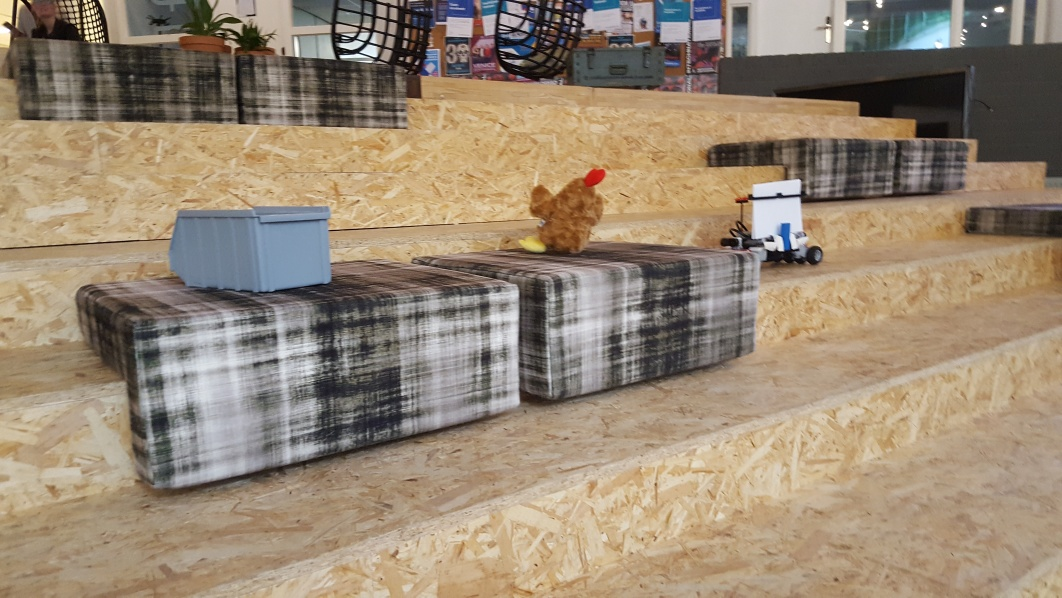car: (723, 179, 827, 266)
chicken: (522, 167, 607, 250)
tray: (166, 201, 338, 296)
